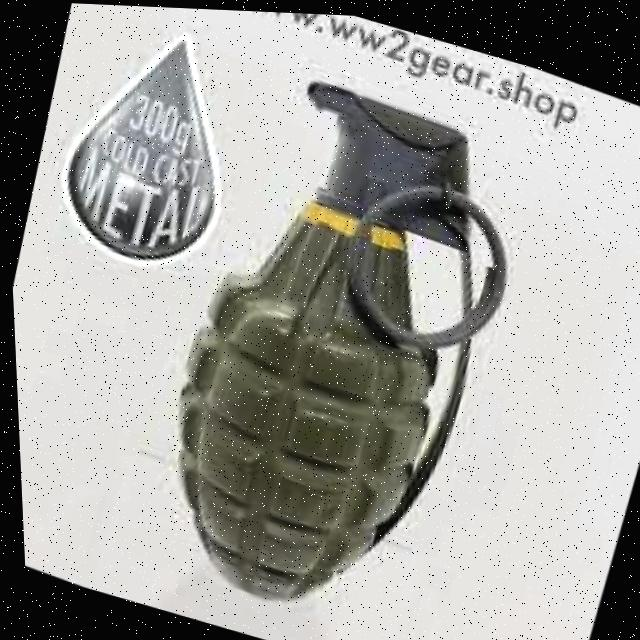grenade: (110, 43, 562, 640)
